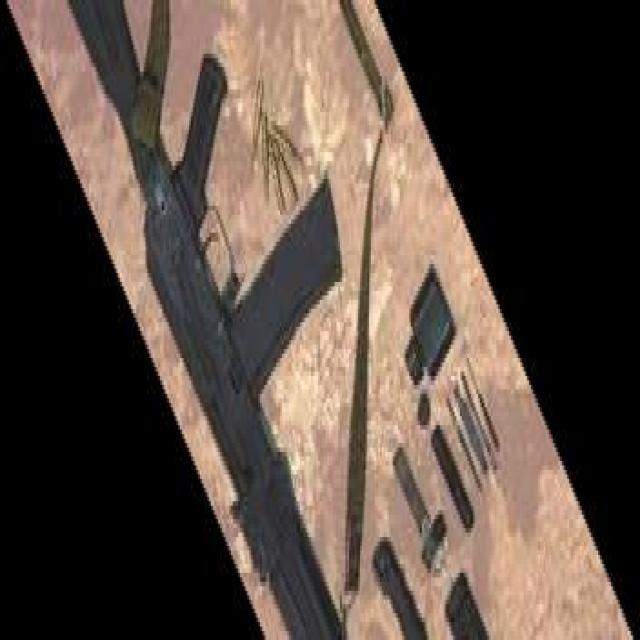weapon: (68, 0, 346, 640)
